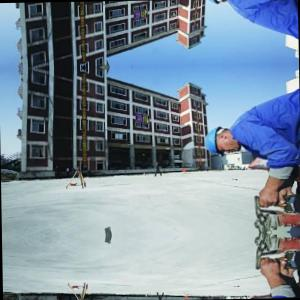helmet: (205, 124, 244, 153), (201, 1, 242, 7)
